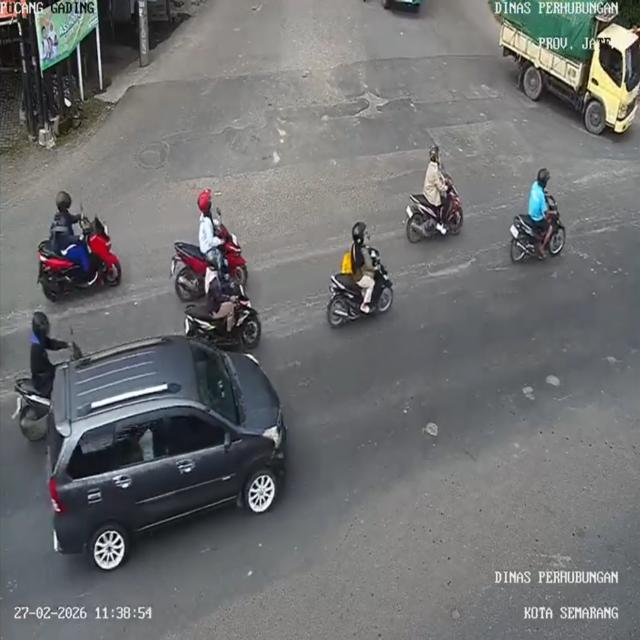motorcycle: (32, 232, 138, 307), (327, 257, 399, 327), (172, 240, 252, 292), (510, 211, 570, 271), (188, 302, 263, 348), (406, 191, 466, 244), (10, 375, 52, 443)
person: (32, 308, 68, 390), (190, 187, 227, 255), (414, 148, 454, 208), (47, 192, 88, 248), (523, 165, 553, 229), (342, 222, 372, 285), (200, 249, 230, 308)
rider_region: (35, 187, 124, 303), (172, 182, 250, 294), (184, 248, 264, 352), (19, 310, 80, 446), (324, 222, 397, 328), (403, 140, 467, 243), (510, 164, 568, 264)
